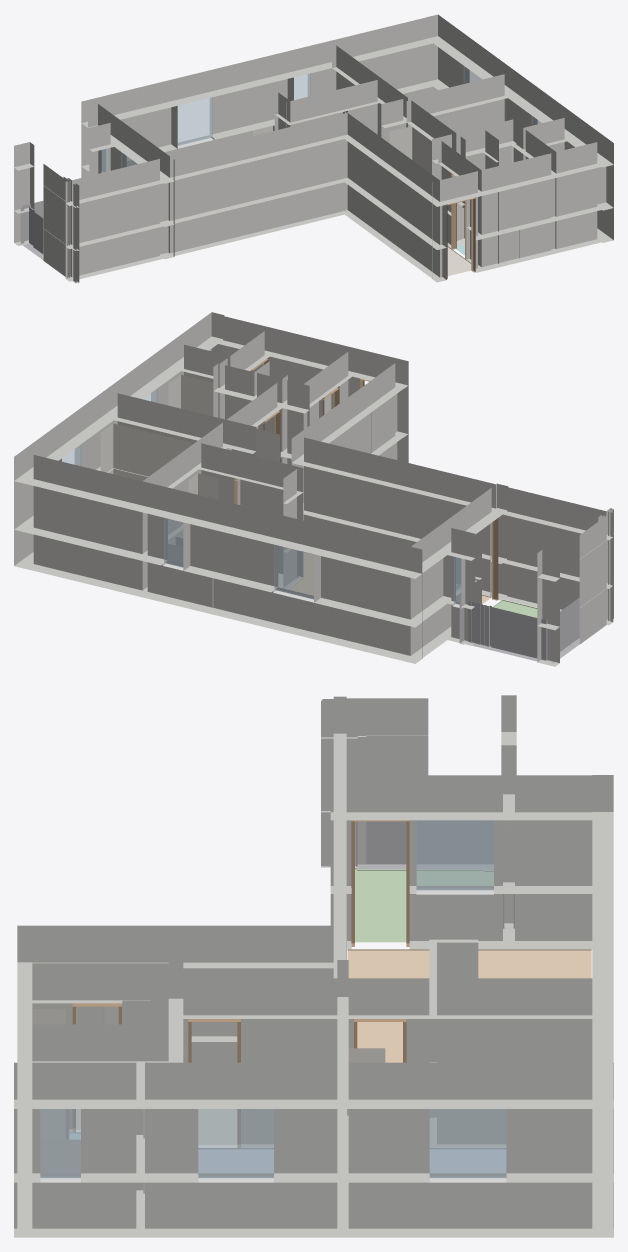
The picture shows the model from 3 angles, top to bottom: view 1: azimuth 30°, elevation 25°; view 2: azimuth 150°, elevation 25°; view 3: azimuth 270°, elevation 25°; orthographic projection. The views are drawn at different scales.
Parts seen in each view (by area): view 1: walls, window_2, furniture_2_closet, railings, door_5, floor_2_Entry, door_7, window_4; view 2: walls, railings, furniture_1_closet, window_2, furniture_3_closet, window_4, furniture_2_closet, furniture_0_closet, floor_0_Living_Room, door_6; view 3: walls, floor_0_Living_Room, railings, window_3, window_0, window_1, floor_4_Outdoor, window_11, floor_3_Bed_Room, floor_5_Bed_Room, floor_2_Entry, furniture_18_sauna_bench (+2 smaller).
Part boxes in pixels (x1,y1,x2,y2): walls: (14,14,613,283); window_2: (177,97,212,145); furniture_2_closet: (389,126,431,174); railings: (20,201,43,259); door_5: (447,197,475,278); floor_2_Entry: (447,246,471,275); door_7: (451,173,466,259); window_4: (294,73,310,99); walls: (14,312,613,666); railings: (459,597,579,663); furniture_1_closet: (100,423,191,481); window_2: (274,545,313,599); furniture_3_closet: (168,374,213,416); window_4: (164,518,183,567); furniture_2_closet: (229,428,279,462); furniture_0_closet: (188,473,218,499); floor_0_Living_Room: (288,552,490,604); door_6: (492,518,498,600); walls: (14,695,613,1237); floor_0_Living_Room: (347,949,591,1062); railings: (356,820,514,931); window_3: (416,816,493,890); window_0: (429,1109,506,1178); window_1: (198,1109,273,1178); floor_4_Outdoor: (355,868,493,942); window_11: (40,1109,80,1178); floor_3_Bed_Room: (430,1148,505,1172); floor_5_Bed_Room: (198,1148,273,1172); floor_2_Entry: (76,1109,236,1144); furniture_18_sauna_bench: (40,1140,80,1172).
Size of the model in its own units: 13.16 by 2.72 by 8.86.
